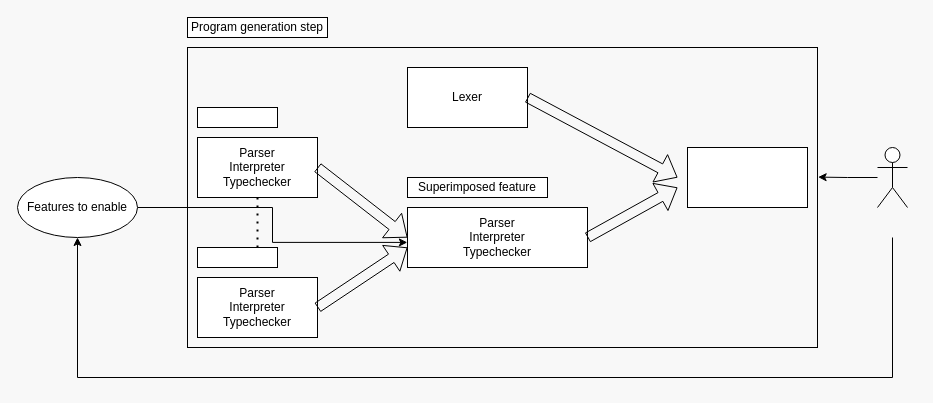
The diagram is 933 pixels wide and 403 high, and some of its shapes have lost their labels. Here are the shapes that lost their labels. From the top down, the centre of each, then its label:
pixel 237 117: Feature 1
pixel 747 177: Complete language
pixel 892 177: Program
pixel 237 257: Feature n
